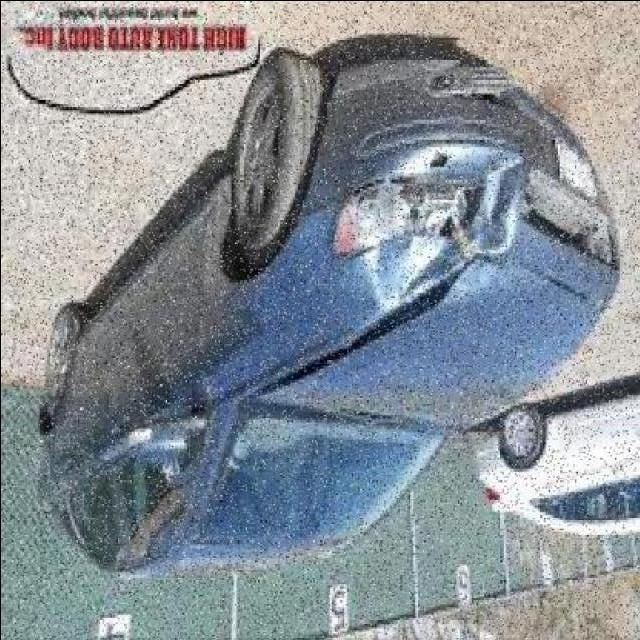fender-dent: (197, 181, 441, 340)
